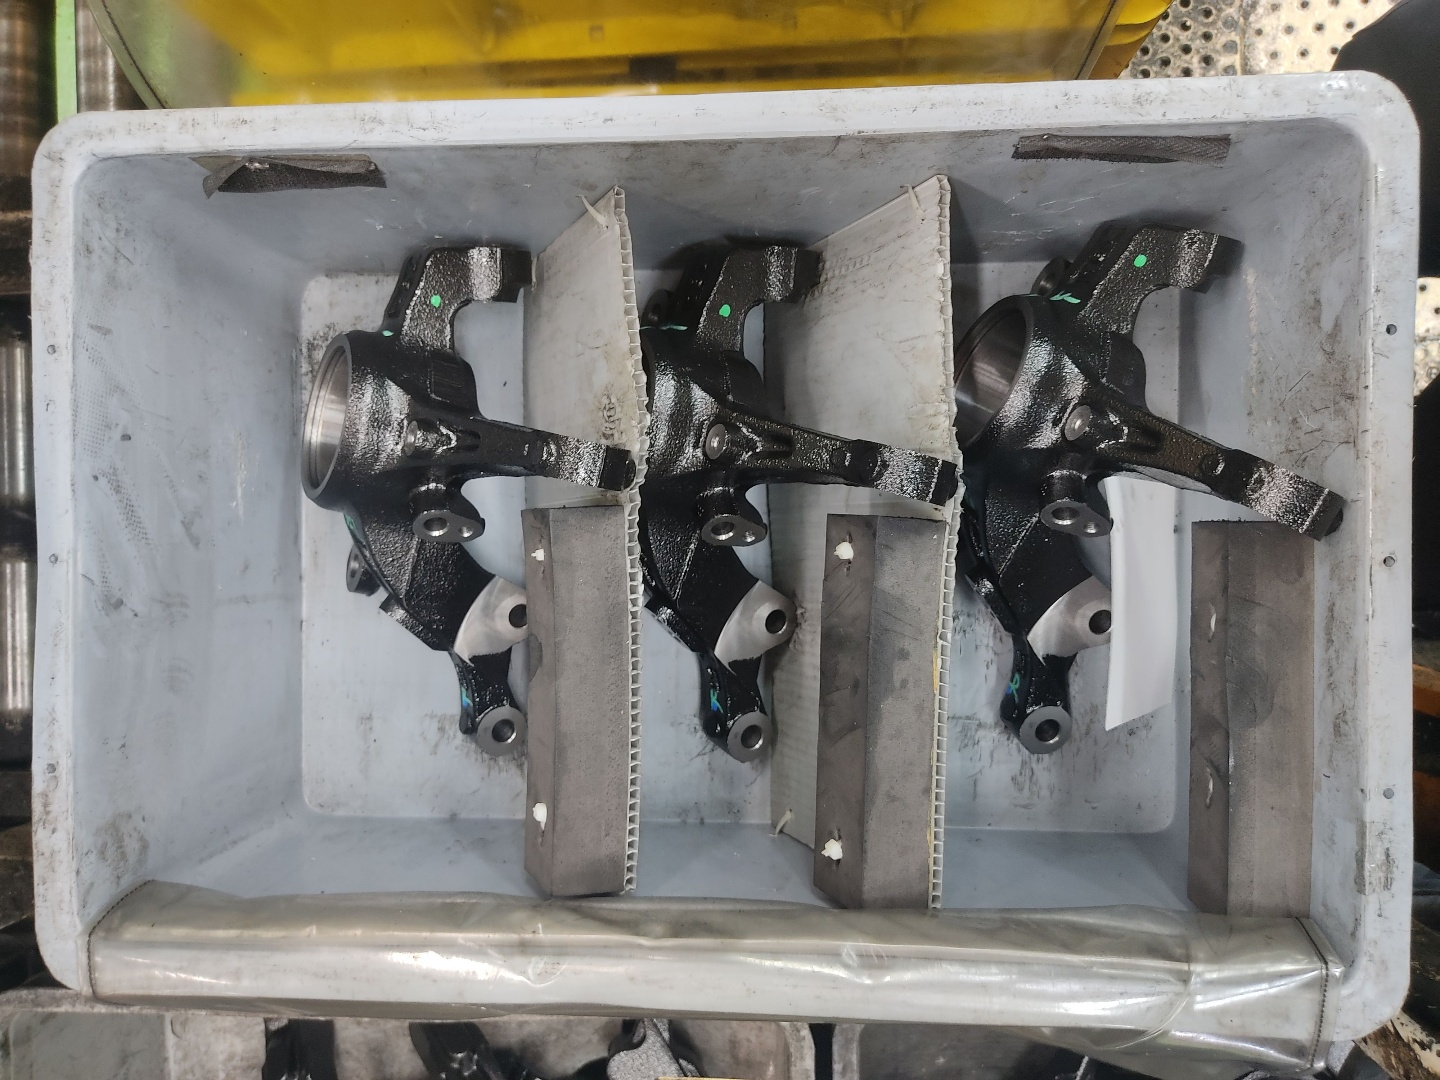abs-rh: (958, 217, 1352, 763), (289, 233, 636, 763), (639, 233, 958, 768)
